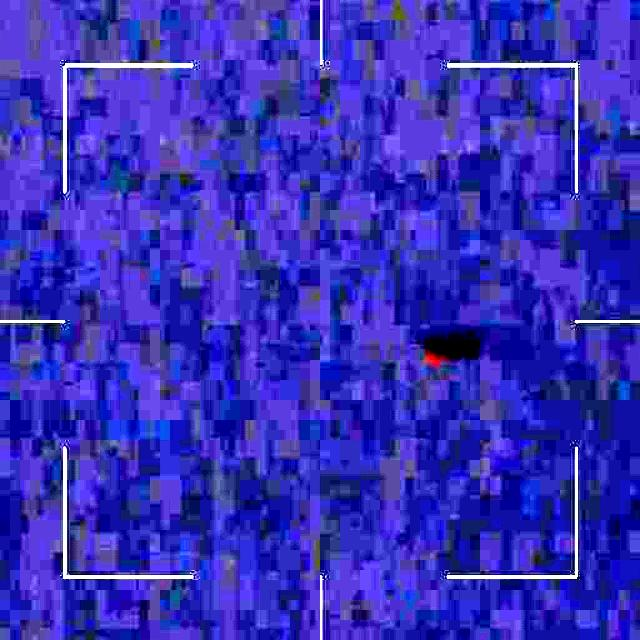bird: (412, 334, 439, 385)
